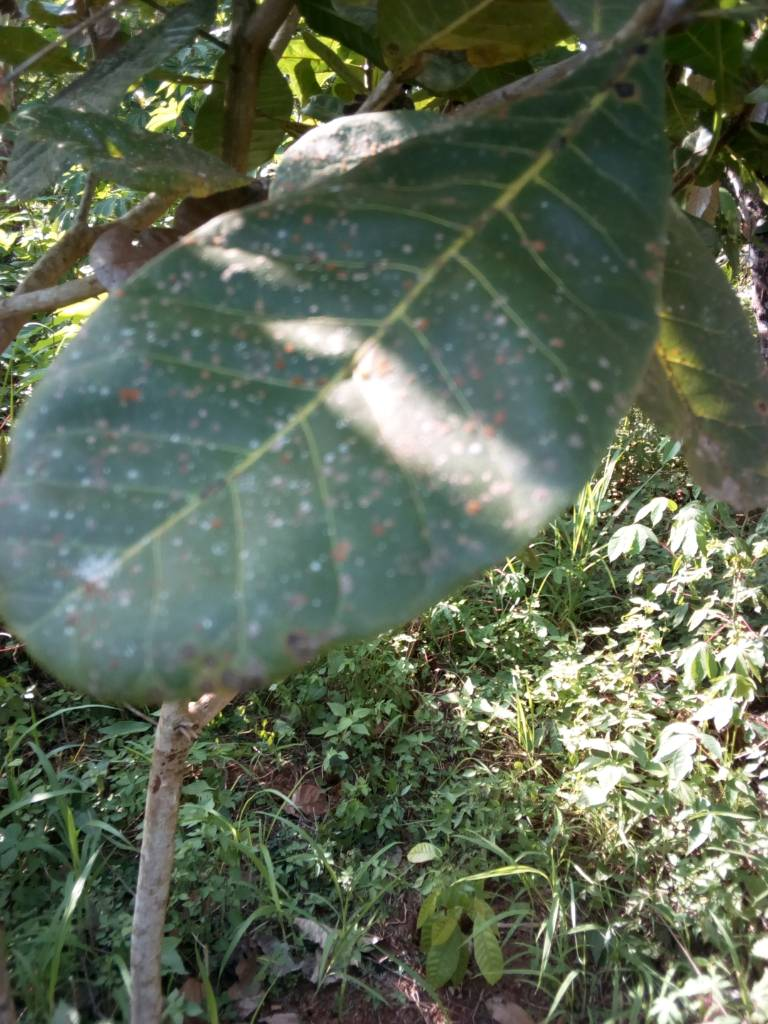Rouille: (1, 33, 708, 724)
